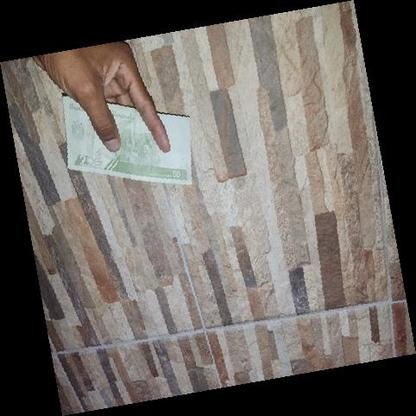fifty-back-vef: (62, 96, 192, 186)
